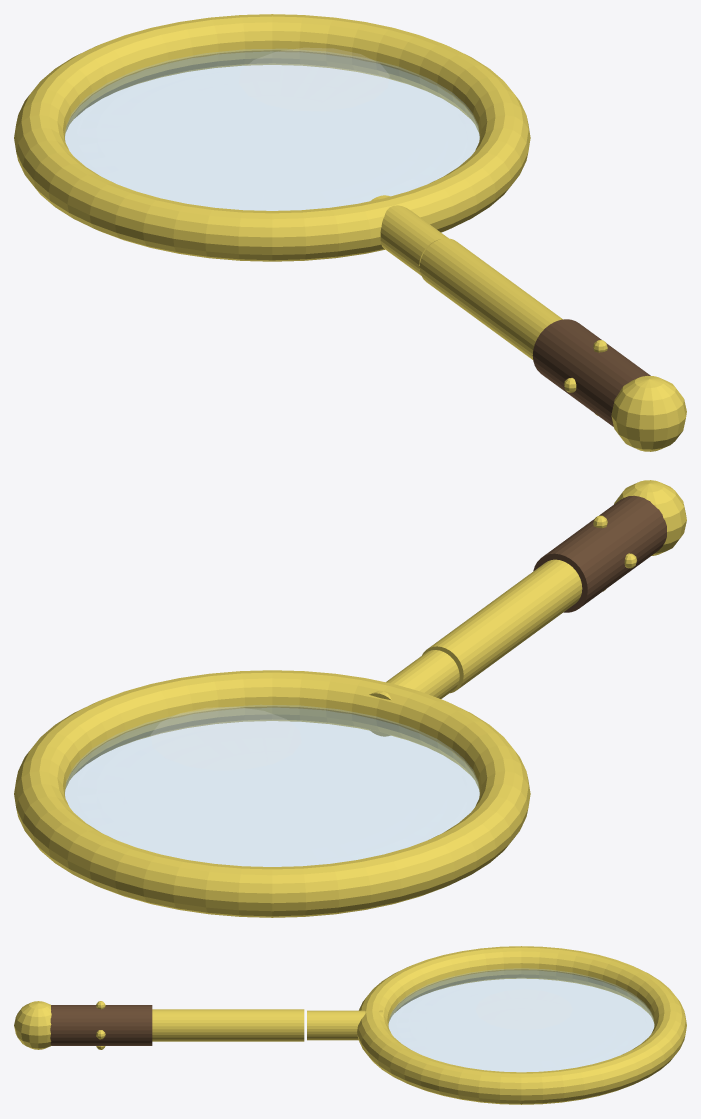
The model's file is magnifying_glass.glb.
3 renders of one model, top to bottom at view 1: azimuth 30°, elevation 25°; view 2: azimuth 150°, elevation 25°; view 3: azimuth 270°, elevation 25°, orthographic. The views are drawn at different scales.
Parts seen in each view (by area): view 1: Ring, Lens, LensGlare, Handle_Top, Handle_Grip, Pommel, Bridge; view 2: Ring, Lens, Handle_Top, LensGlare, Handle_Grip, Bridge, Pommel; view 3: Ring, Lens, Handle_Top, Handle_Grip, LensGlare, Bridge, Pommel.
Part boxes in pixels (bbox=[...]): Ring: bbox=[14, 14, 530, 261]; Lens: bbox=[65, 49, 479, 210]; LensGlare: bbox=[239, 48, 388, 110]; Handle_Top: bbox=[419, 238, 562, 359]; Handle_Grip: bbox=[532, 319, 650, 426]; Pommel: bbox=[611, 375, 686, 451]; Bridge: bbox=[371, 195, 448, 275]; Ring: bbox=[14, 670, 530, 917]; Lens: bbox=[65, 705, 479, 866]; Handle_Top: bbox=[422, 559, 582, 693]; LensGlare: bbox=[151, 707, 300, 769]; Handle_Grip: bbox=[533, 495, 666, 612]; Bridge: bbox=[369, 650, 459, 736]; Pommel: bbox=[614, 480, 686, 555]; Ring: bbox=[357, 946, 686, 1104]; Lens: bbox=[388, 968, 654, 1071]; Handle_Top: bbox=[152, 1009, 304, 1041]; Handle_Grip: bbox=[50, 1005, 152, 1045]; LensGlare: bbox=[476, 989, 572, 1029]; Bridge: bbox=[307, 1010, 382, 1040]; Pommel: bbox=[14, 1001, 51, 1049].
Bounding box in the file's own units: 1.22 × 0.218 × 2.48.
